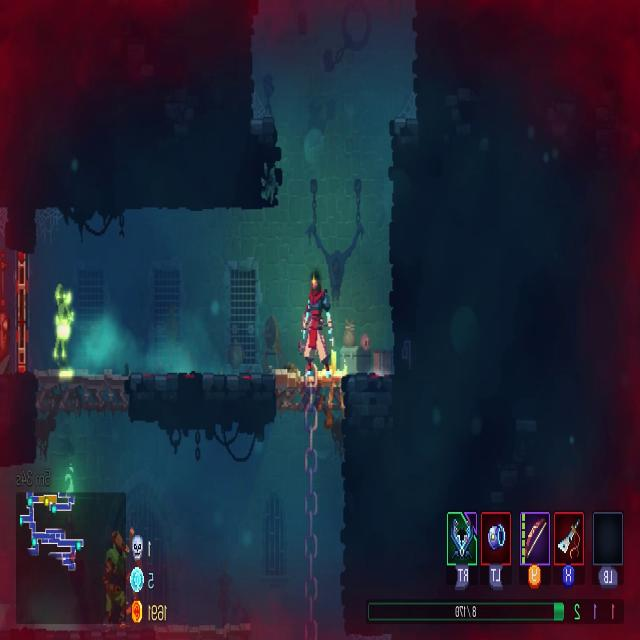agents: (298, 274, 332, 376)
enemy_archer: (106, 530, 137, 625)
enemy_green_puncher: (52, 287, 74, 379)
